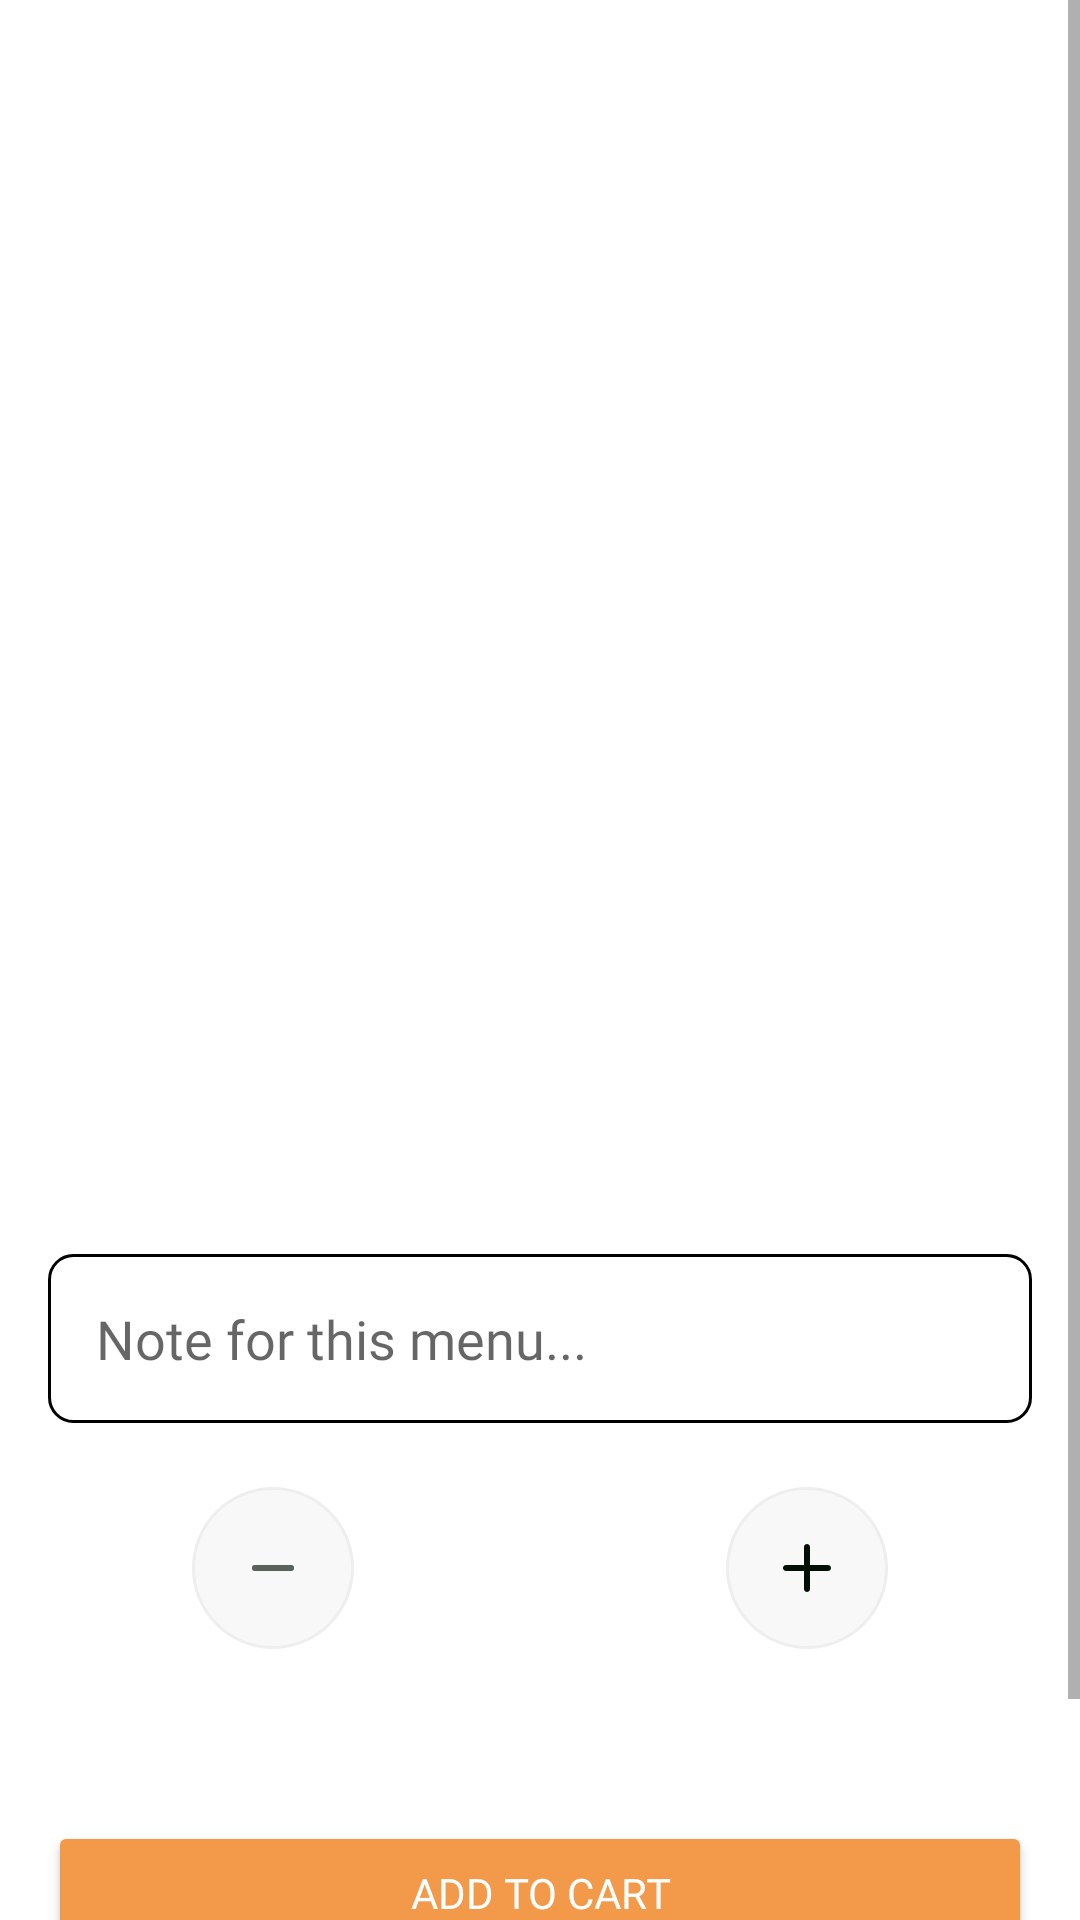

Icon click points for this 1080px x 1920px phone screenshot, format (x=x, y=y):
plus: (x=807, y=1568)
